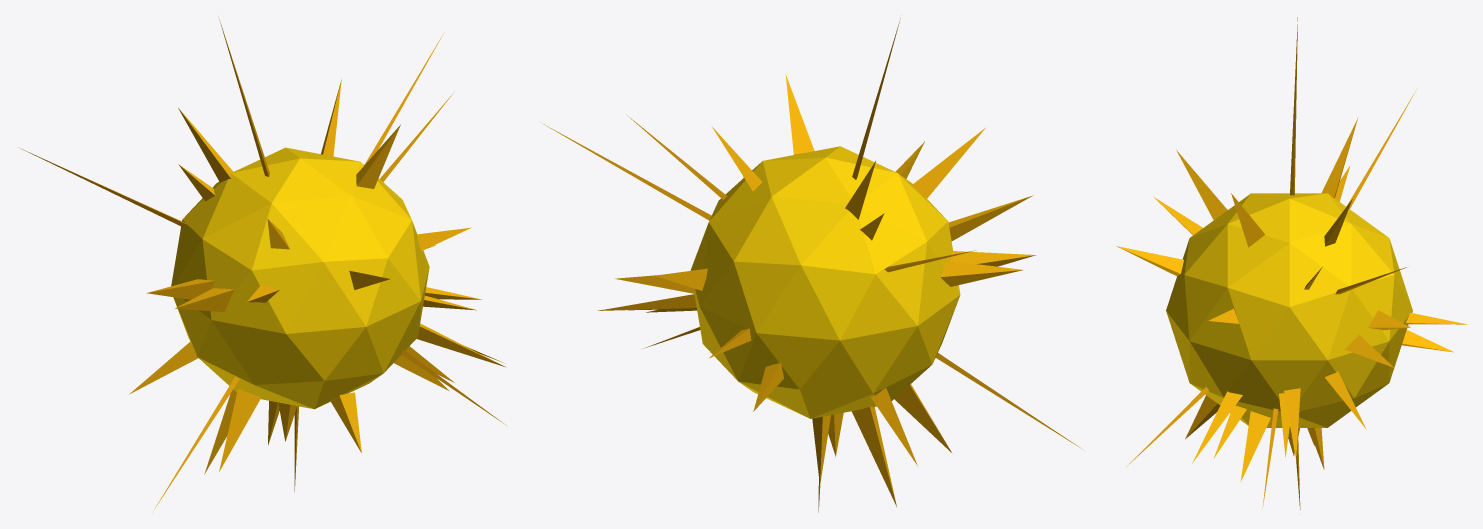
File: sun.glb
3 renders of one model, left to right at view 1: azimuth 30°, elevation 25°; view 2: azimuth 150°, elevation 25°; view 3: azimuth 270°, elevation 25°, orthographic. The views are drawn at different scales.
Visible parts, largest first — view 1: sun; view 2: sun; view 3: sun.
Part boxes in pixels (box(x1,y1,x2,y2)): sun: box(21, 19, 506, 509); sun: box(542, 18, 1082, 512); sun: box(1116, 17, 1467, 514).
Bounding box in the file's own units: 3.73 × 4.16 × 2.86.
